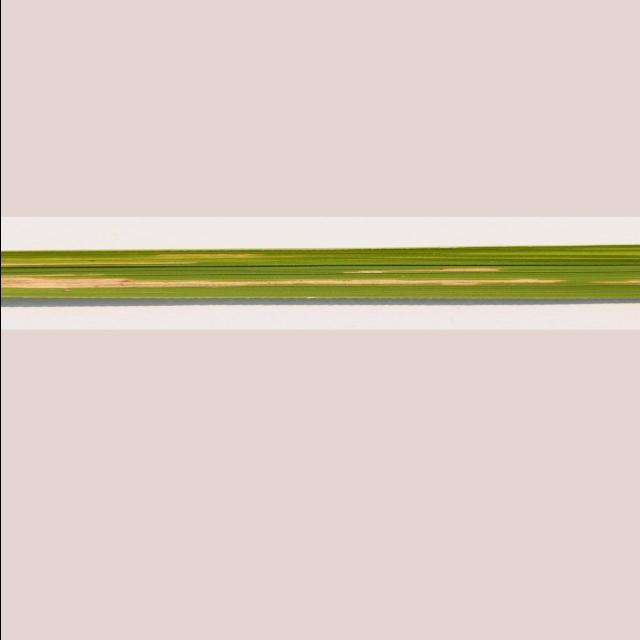Bacterial leaf blight: (0, 218, 640, 332)
